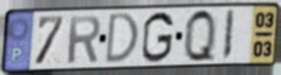7: (35, 14, 66, 67)
D: (103, 11, 141, 66)
G: (140, 10, 176, 65)
I: (221, 9, 237, 62)
Q: (183, 7, 217, 65)
R: (66, 14, 103, 66)
